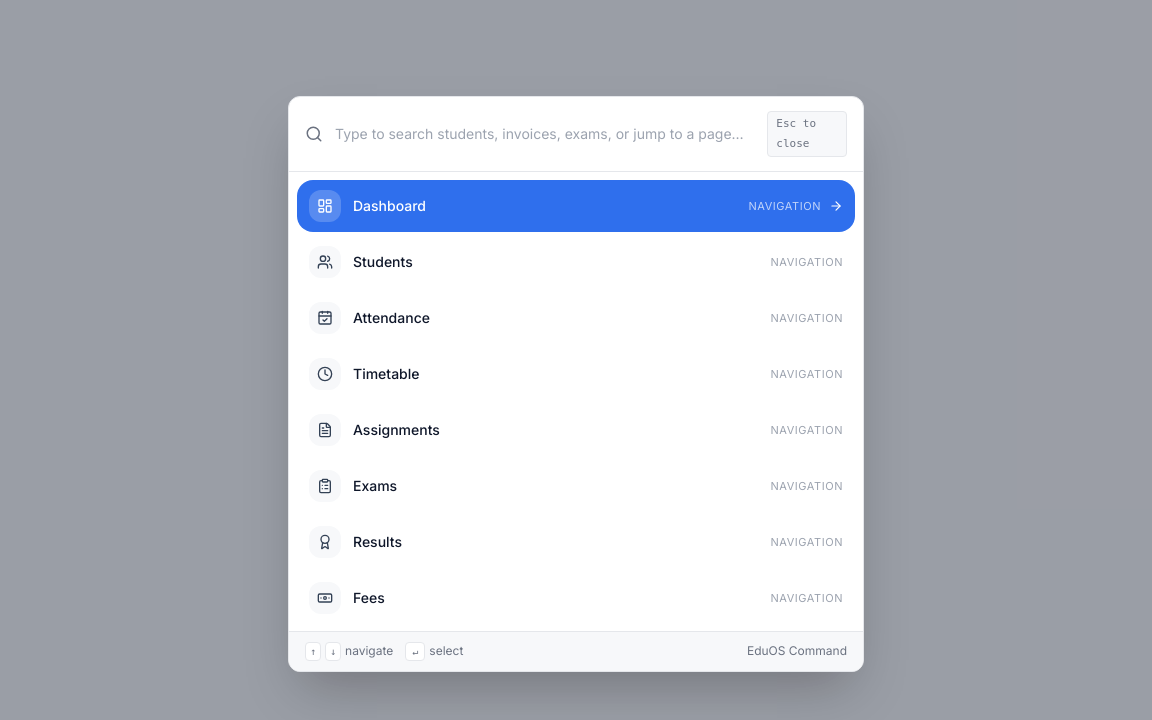
Test: GlobalSearchModal › filters results by search query across students and invoices
The image size is (1152, 720).
Type "Rahim" into the field with placeholder "search" at (545, 134), box [335, 124, 755, 144]
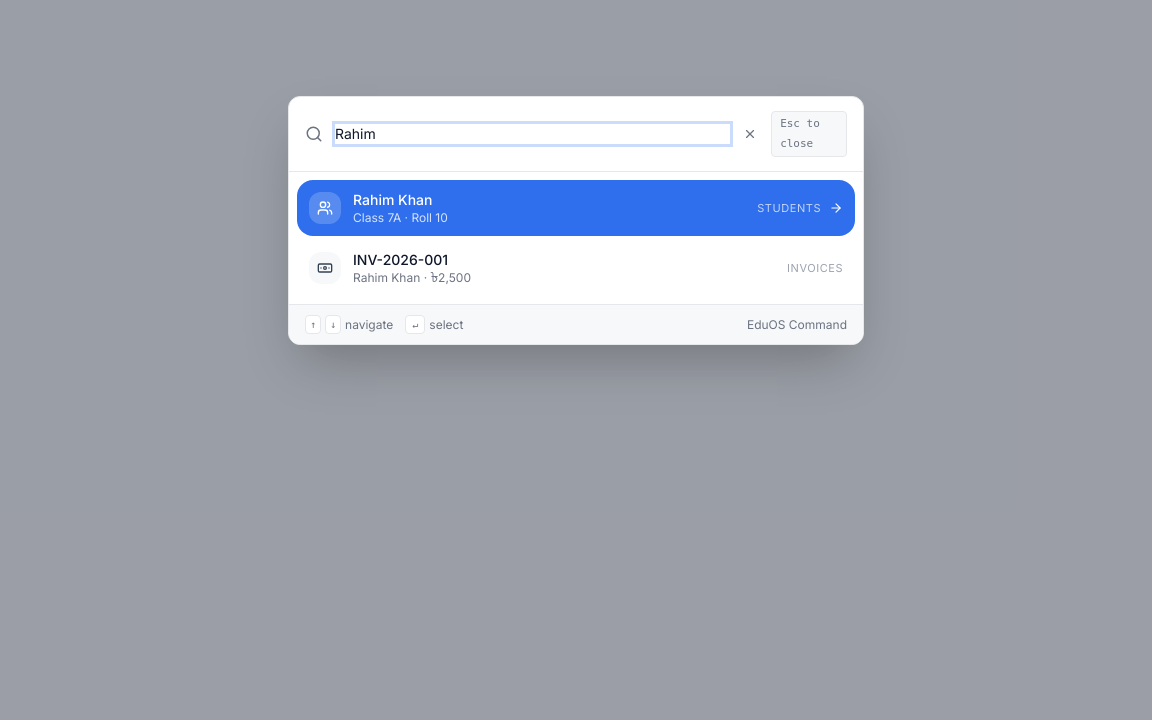
Now the text "Rahim Khan" is shown, box [353, 191, 432, 208]
Now the text "INV-2026-001" is shown, box [353, 251, 448, 268]
